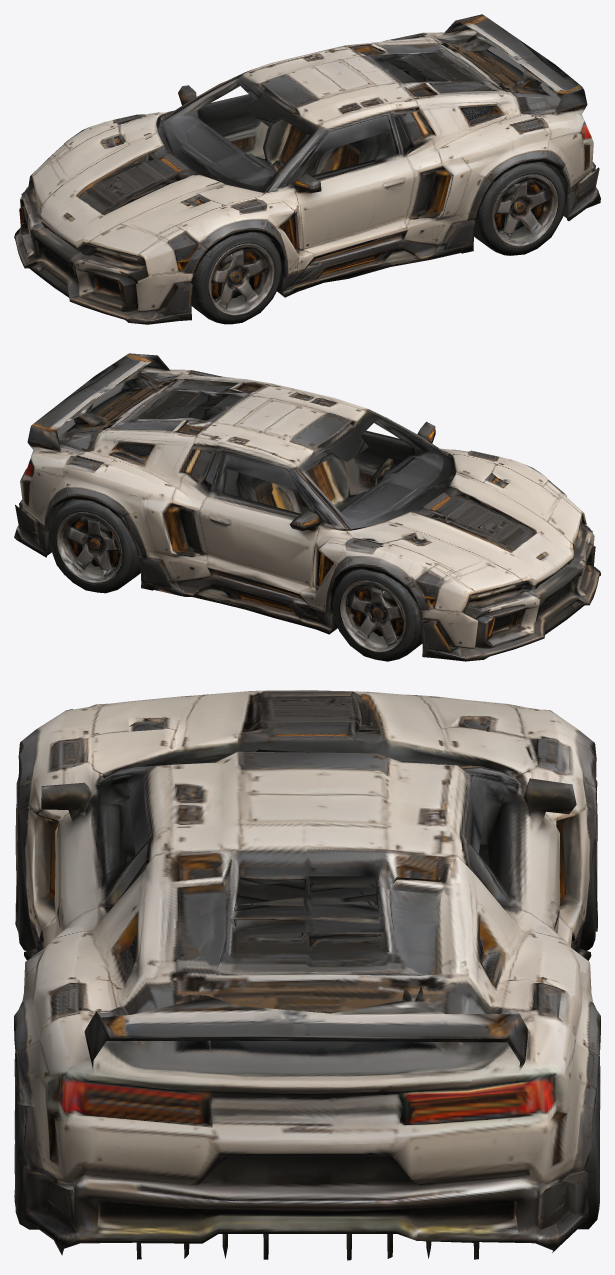
The model's file is cybercar1.glb.
3 views of the same model, one above another, from view 1: azimuth 30°, elevation 25°; view 2: azimuth 150°, elevation 25°; view 3: azimuth 270°, elevation 25° (orthographic). The views are drawn at different scales.
Visible parts, largest first — view 1: tripo_node_8faee417-38a3-4f91-b257-92ac1cbb46ba; view 2: tripo_node_8faee417-38a3-4f91-b257-92ac1cbb46ba; view 3: tripo_node_8faee417-38a3-4f91-b257-92ac1cbb46ba.
Boxes of the visible parts, x1=… form: tripo_node_8faee417-38a3-4f91-b257-92ac1cbb46ba: x1=14, y1=14, x2=600, y2=324; tripo_node_8faee417-38a3-4f91-b257-92ac1cbb46ba: x1=14, y1=353, x2=600, y2=661; tripo_node_8faee417-38a3-4f91-b257-92ac1cbb46ba: x1=14, y1=690, x2=600, y2=1260.
Size of the model in its own units: 0.9799 by 0.2855 by 0.4929.
1 material, 1 textured.
